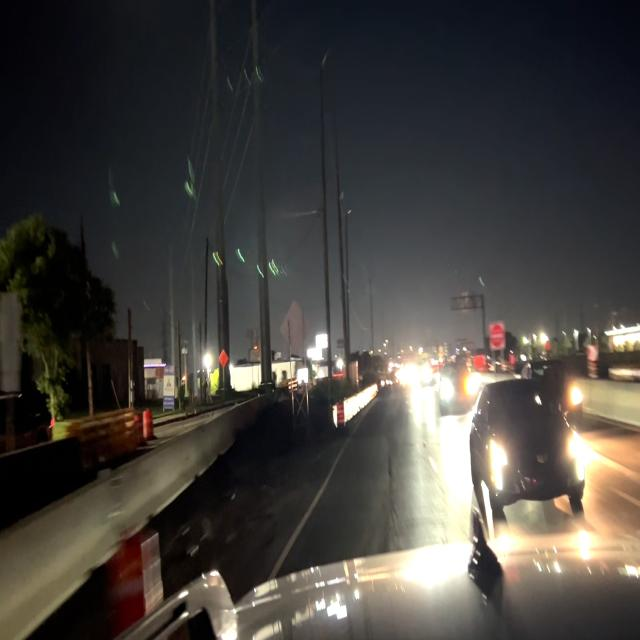back-of-sign: (279, 297, 312, 354), (450, 283, 485, 321)
